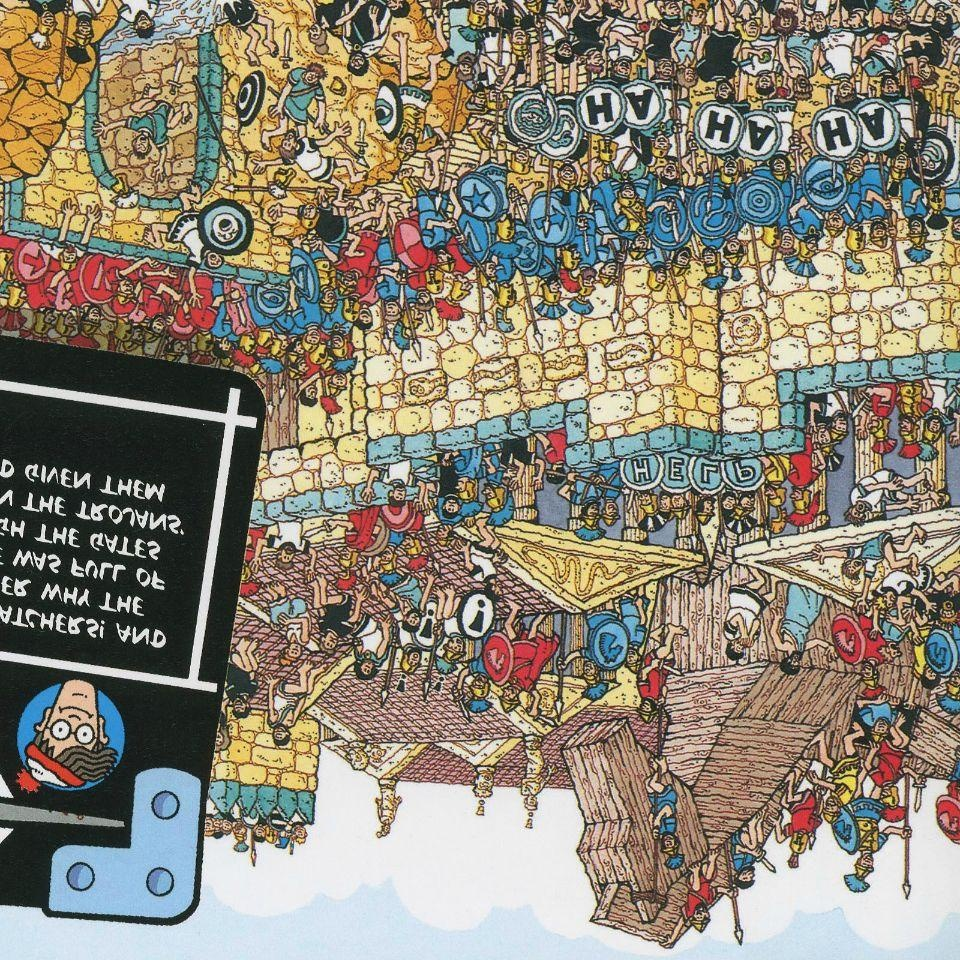waldo: (14, 679, 118, 795)
